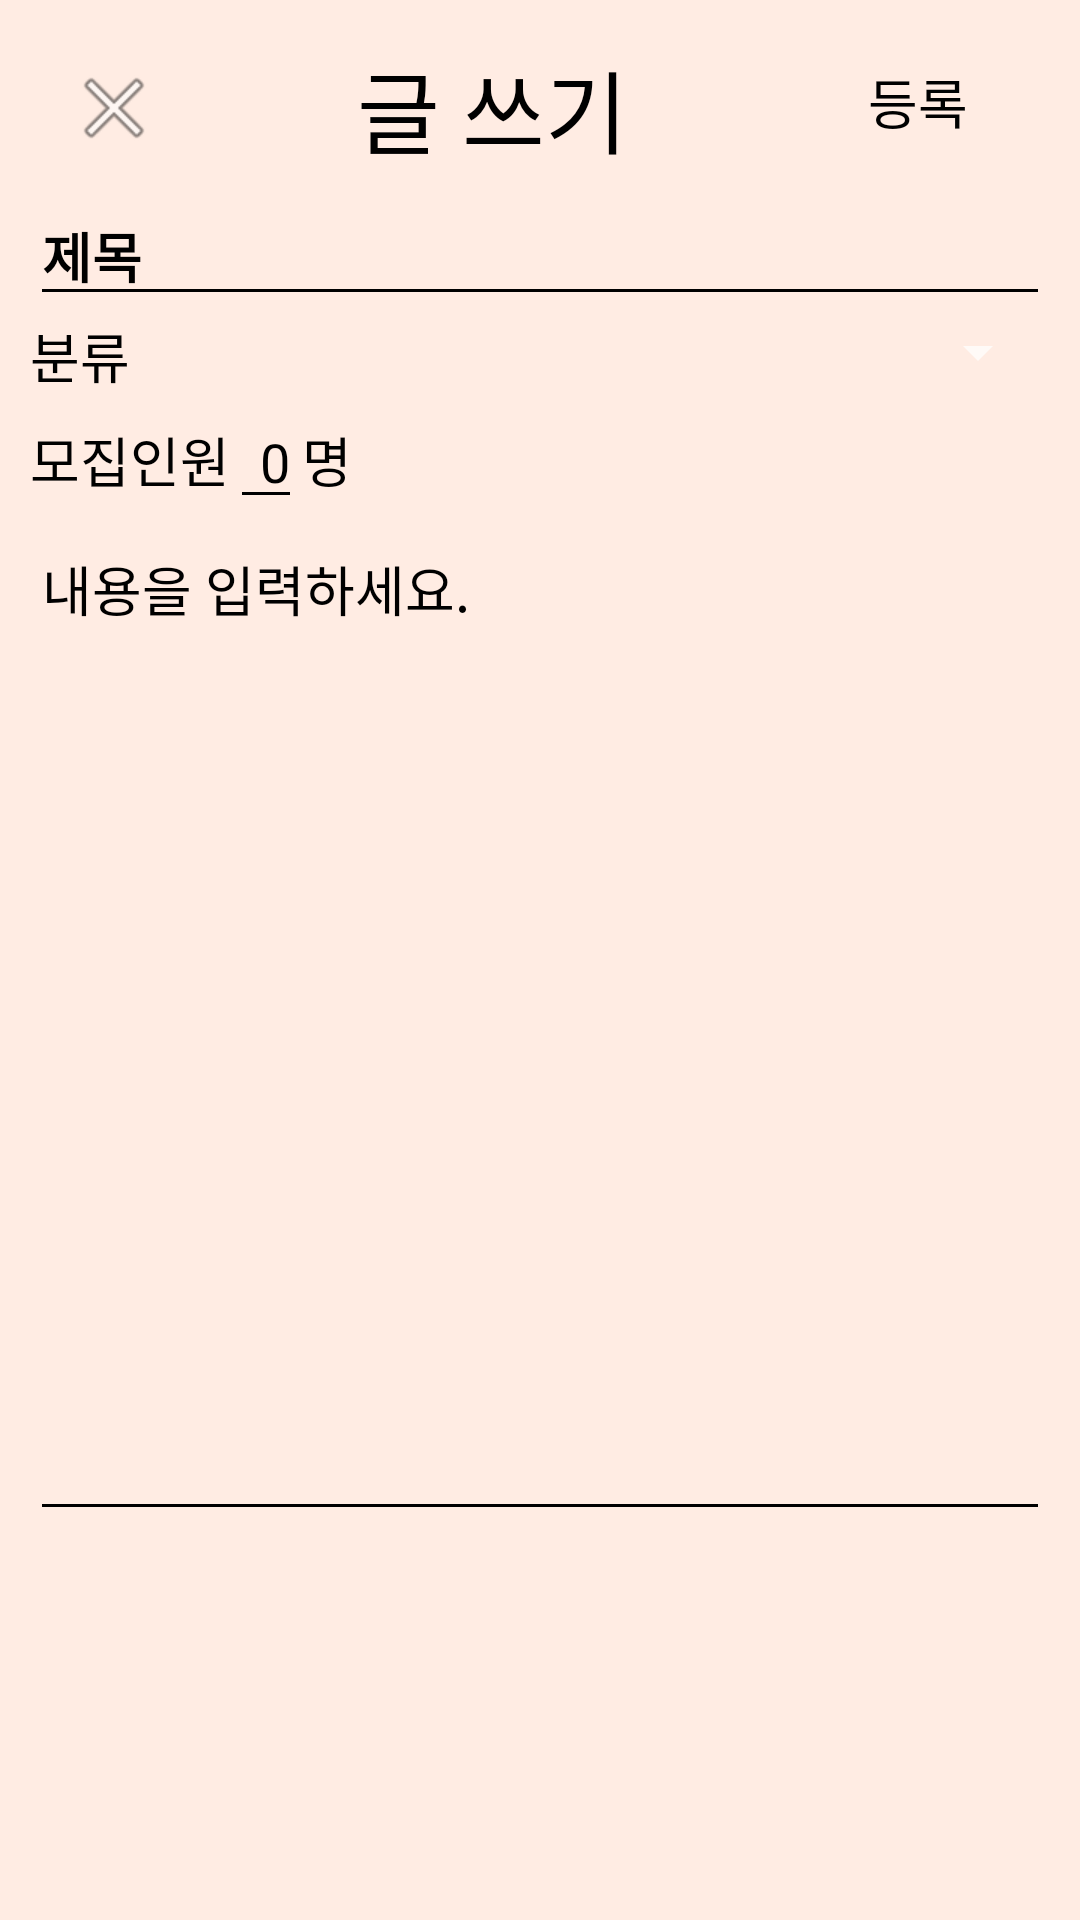

Point at icon controls on the screen. Image size 1080×1920, points as [x,y].
close clear cancel: [114,108]
